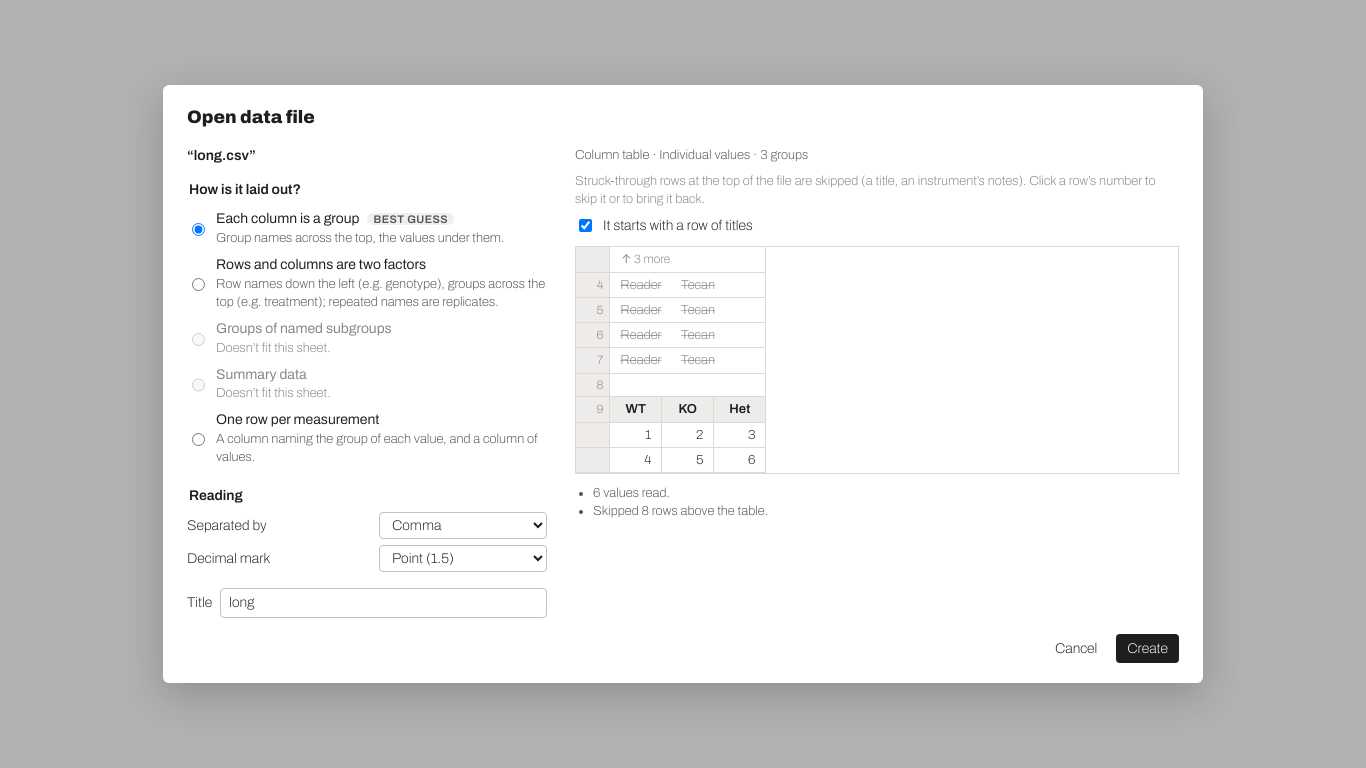
Test: the Open data file dialog › folds a long run of skipped rows
Expected: the text "best guess" is shown, [368, 213, 454, 225]
Expected: the number of buttons named "Start at row" is 5, [576, 274, 609, 296]; [576, 299, 609, 322]; [576, 324, 609, 347]; [576, 349, 609, 372]; [576, 374, 609, 396]
Click the button with aria-label "Show 3 more skipped rows".
click(646, 260)  # box [620, 250, 671, 269]
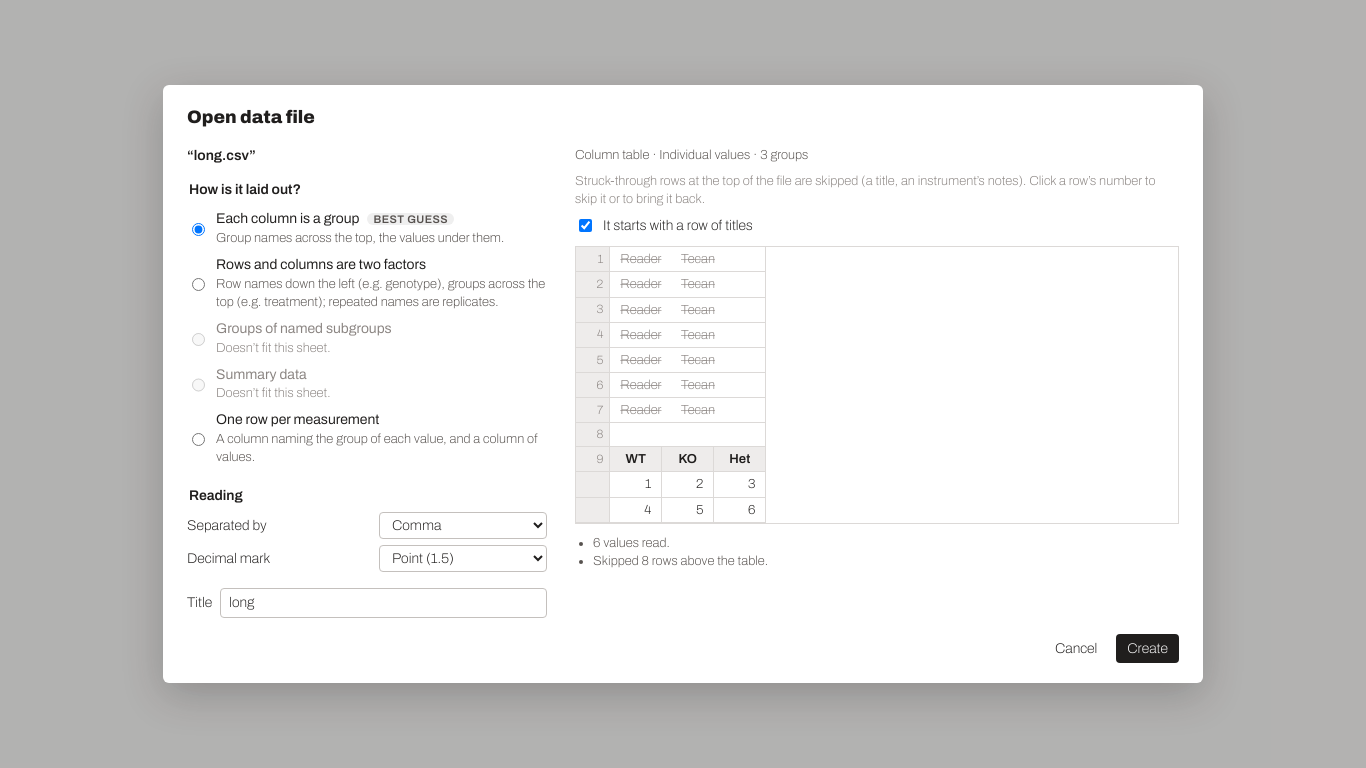
Expected: the button named "Skip row 9" is shown, [576, 448, 609, 471]
Expected: the number of buttons named "Start at row" is 8
